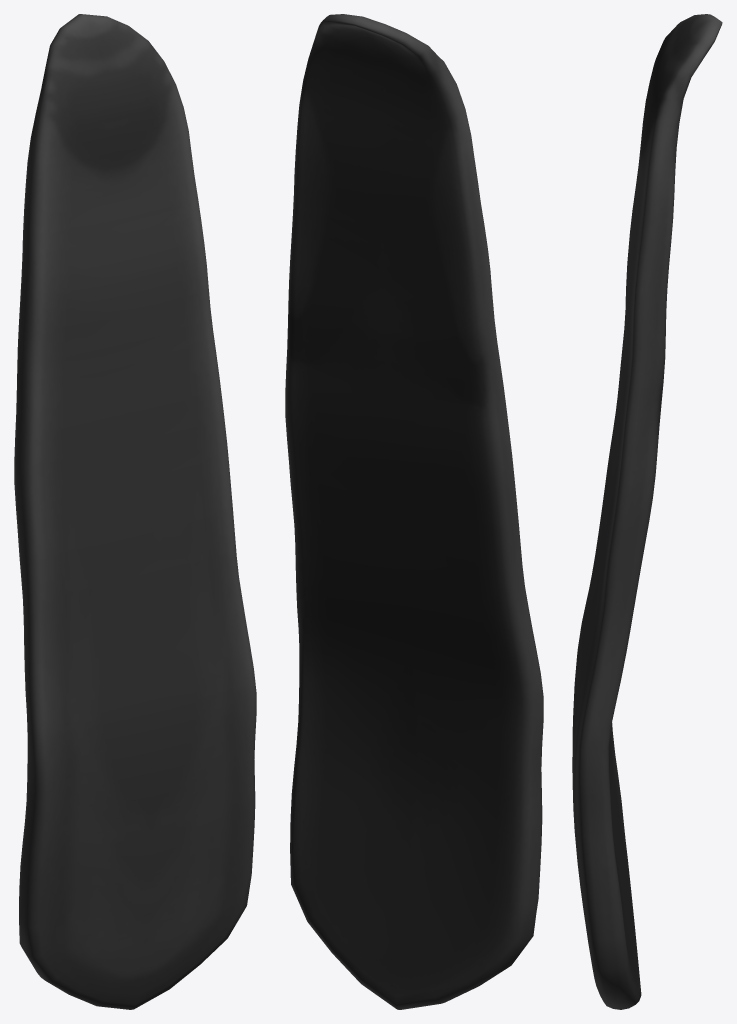
File: ShiliOutfit01_Low.fbx
3 renders of one model, left to right at view 1: azimuth 30°, elevation 25°; view 2: azimuth 150°, elevation 25°; view 3: azimuth 270°, elevation 25°, orthographic. The views are drawn at different scales.
Parts seen in each view (by area): view 1: ShiliOutfit01_Low; view 2: ShiliOutfit01_Low; view 3: ShiliOutfit01_Low.
Part boxes in pixels (<box>): ShiliOutfit01_Low: <box>14,14,256,1009</box>; ShiliOutfit01_Low: <box>285,14,543,1009</box>; ShiliOutfit01_Low: <box>572,14,722,1009</box>.
Bounding box in the file's own units: 0.1626 × 0.6642 × 0.0916.
